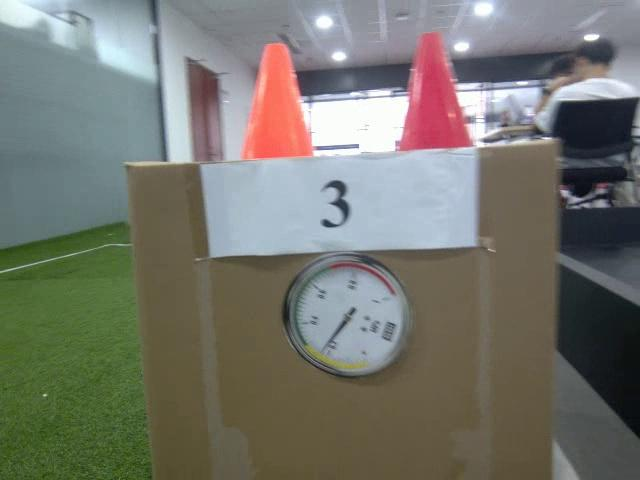3: (320, 178, 351, 228)
Dashboard: (284, 252, 412, 377)
orange_barrel: (241, 42, 312, 161)
red_barrel: (396, 30, 473, 152)
ssi: (383, 322, 396, 342)
